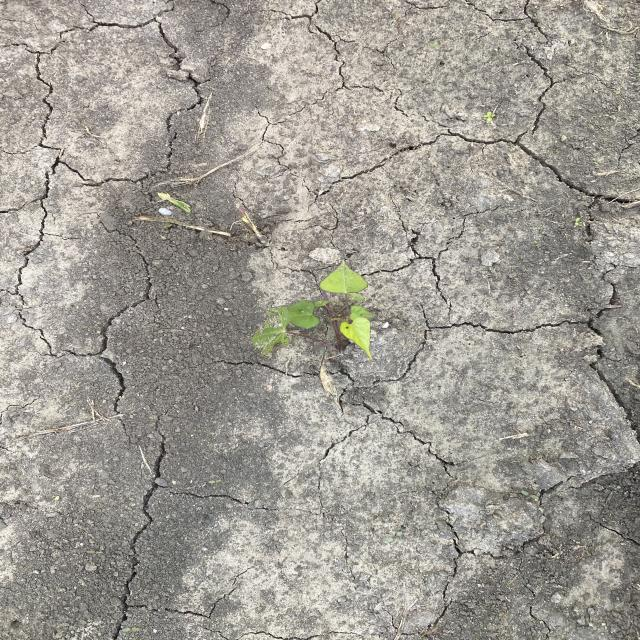MorningGlory: (245, 257, 378, 364)
